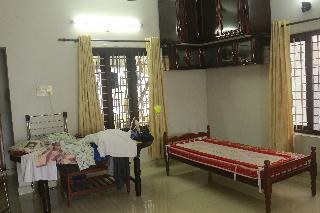shuttlecock: (154, 105, 160, 114)
